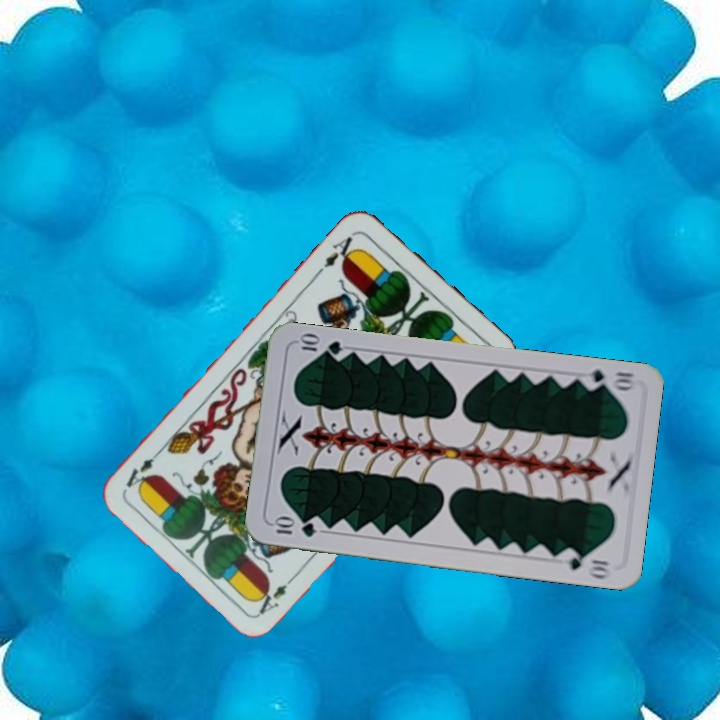EA: (250, 569, 300, 617), (314, 228, 360, 276)
G10: (577, 365, 637, 394), (269, 514, 319, 540)
